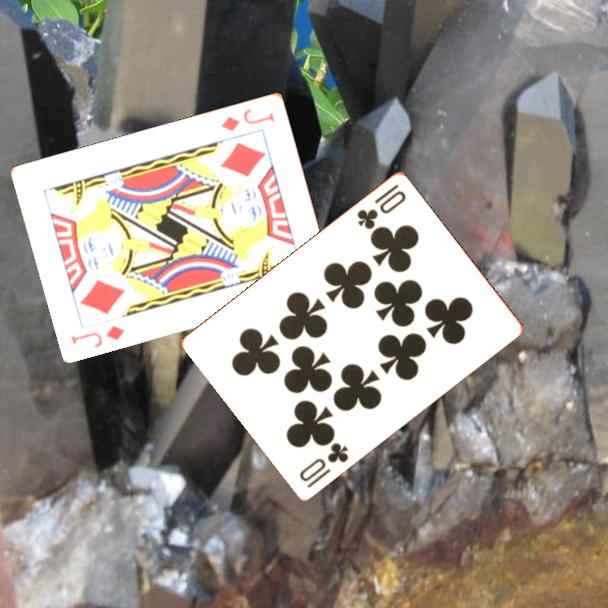c10: (296, 438, 352, 491), (353, 180, 409, 232)
d11: (218, 105, 277, 134), (68, 322, 128, 350)
